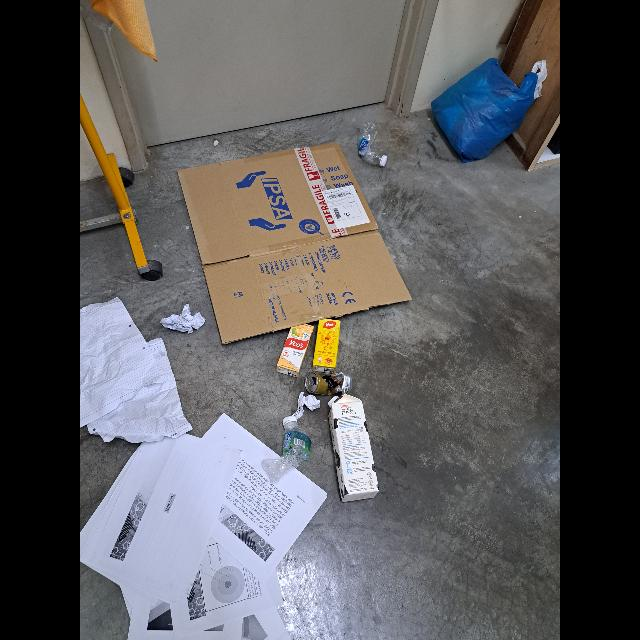aba de lata: (307, 379, 313, 386)
caixinha: (328, 389, 379, 503), (276, 323, 314, 377), (312, 318, 340, 374)
garrafa plástica: (262, 424, 310, 482), (358, 122, 382, 164)
lata: (305, 372, 353, 394)
papel: (80, 412, 328, 640), (80, 296, 190, 442), (160, 304, 206, 334), (292, 392, 320, 418)
papelão: (176, 142, 412, 344)
sacola plástica: (432, 58, 538, 164)
tampa plástica: (282, 417, 298, 428), (328, 395, 338, 407), (380, 156, 388, 167)
